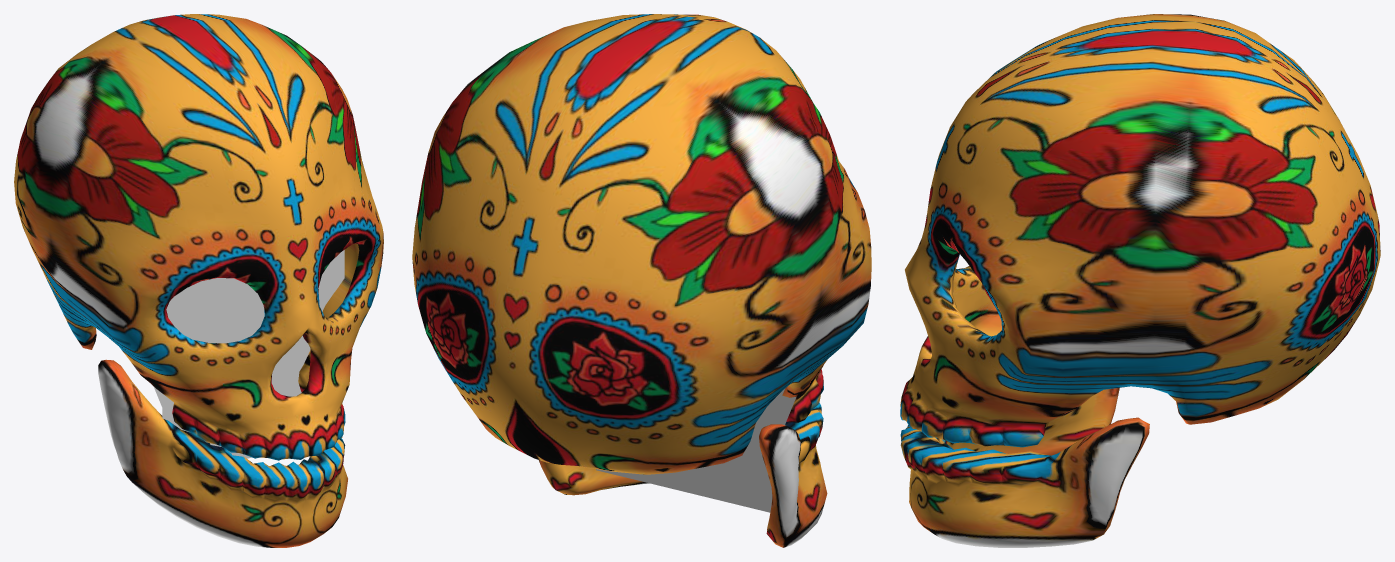
Rendered from tete.FBX.
3 renders of one model, left to right at view 1: azimuth 30°, elevation 25°; view 2: azimuth 150°, elevation 25°; view 3: azimuth 270°, elevation 25°, orthographic. The views are drawn at different scales.
Visible parts, largest first — view 1: skull, Plane005; view 2: skull, Plane005; view 3: skull.
Part boxes in pixels (x1,y1,x2,y2): skull: (14, 14, 383, 547); Plane005: (154, 250, 344, 458); skull: (412, 14, 871, 547); Plane005: (596, 389, 796, 512); skull: (900, 14, 1380, 547).
Size of the model in its own units: 68.16 by 95.97 by 86.15.
Materials: 1 (1 with a texture image).
